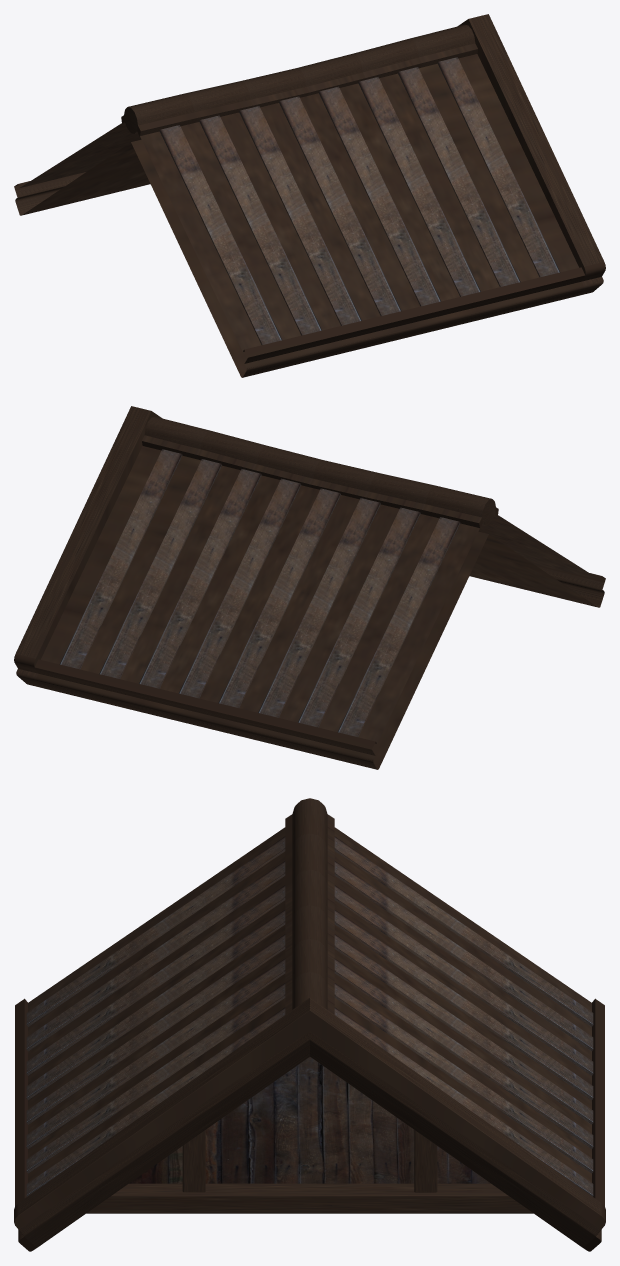
File: OutdoorArchitecture_Roof01_Planks02_BShortt.fbx
3 views of the same model, one above another, from view 1: azimuth 30°, elevation 25°; view 2: azimuth 150°, elevation 25°; view 3: azimuth 270°, elevation 25° (orthographic). The views are drawn at different scales.
Parts seen in each view (by area): view 1: OutdoorArchitecture_Roof01_Planks02_BShortt; view 2: OutdoorArchitecture_Roof01_Planks02_BShortt; view 3: OutdoorArchitecture_Roof01_Planks02_BShortt.
Boxes of the visible parts, box(x1,y1,x2,y2) form: OutdoorArchitecture_Roof01_Planks02_BShortt: box(14, 14, 605, 377); OutdoorArchitecture_Roof01_Planks02_BShortt: box(14, 406, 605, 769); OutdoorArchitecture_Roof01_Planks02_BShortt: box(14, 798, 605, 1251).
Size of the model in its own units: 337 by 176 by 383.
